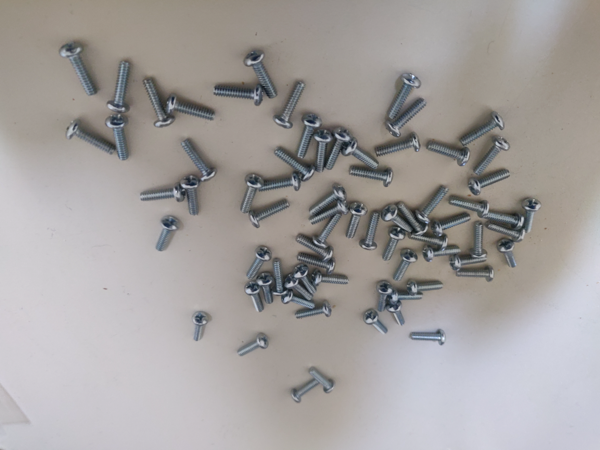shortscrew: (59, 42, 98, 97), (66, 120, 117, 156), (142, 77, 176, 128), (244, 50, 278, 100), (385, 98, 427, 138), (460, 111, 505, 147), (388, 73, 422, 120), (273, 82, 306, 129), (181, 140, 217, 183), (274, 147, 316, 183), (165, 93, 216, 122), (473, 137, 511, 175), (416, 184, 449, 224), (106, 61, 131, 113), (249, 199, 291, 229), (309, 183, 347, 216), (342, 137, 380, 170), (396, 201, 429, 237), (297, 114, 323, 159), (376, 132, 421, 158), (427, 141, 471, 167), (469, 169, 511, 196), (105, 114, 129, 161), (312, 212, 342, 249), (214, 84, 264, 106), (296, 234, 334, 262), (309, 200, 349, 225), (349, 166, 394, 188), (241, 174, 265, 214), (432, 213, 472, 237), (381, 205, 414, 234), (141, 182, 186, 203), (449, 196, 490, 218), (297, 252, 336, 275), (359, 211, 381, 251), (486, 221, 526, 243), (247, 246, 272, 281), (156, 216, 180, 252), (259, 172, 302, 192), (383, 226, 406, 262), (393, 249, 418, 282), (346, 202, 368, 239), (284, 273, 313, 301), (180, 176, 200, 216), (292, 264, 317, 295), (237, 334, 270, 357), (295, 300, 332, 320), (309, 367, 336, 394), (423, 244, 461, 263), (522, 198, 542, 234), (496, 238, 518, 269), (281, 289, 315, 309), (363, 309, 389, 335), (409, 234, 448, 251), (456, 266, 495, 283), (489, 212, 523, 231), (291, 380, 319, 403), (312, 270, 349, 287), (450, 254, 487, 271), (470, 222, 487, 259), (245, 280, 264, 313), (272, 258, 288, 297), (256, 272, 274, 305), (407, 280, 444, 296), (410, 330, 447, 346), (389, 290, 423, 306), (376, 281, 393, 312), (385, 300, 405, 326), (192, 312, 209, 342)
